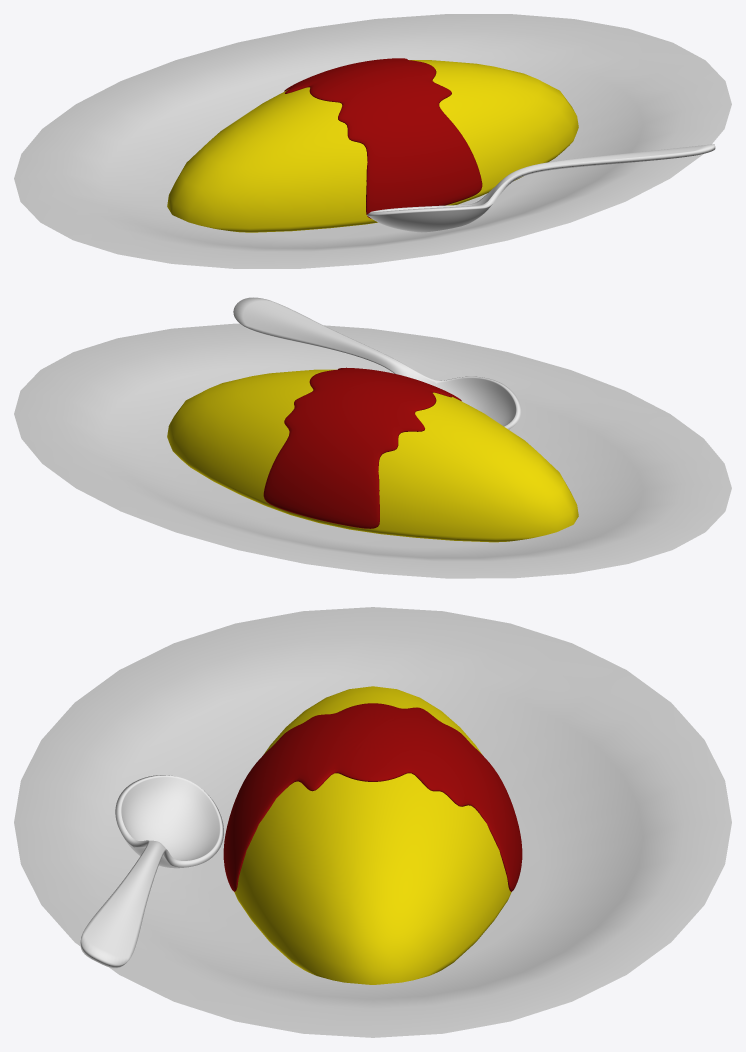
The model's file is omuraisu.glb.
The picture shows the model from 3 angles, top to bottom: view 1: azimuth 30°, elevation 25°; view 2: azimuth 150°, elevation 25°; view 3: azimuth 270°, elevation 25°; orthographic projection. The views are drawn at different scales.
Parts seen in each view (by area): view 1: 円柱, 球, 球.001, 球.002; view 2: 円柱, 球, 球.001, 球.002; view 3: 円柱, 球, 球.001, 球.002.
Part boxes in pixels (box(x1,y1,x2,y2)): 円柱: box(14, 14, 731, 268); 球: box(167, 60, 578, 232); 球.001: box(284, 58, 482, 218); 球.002: box(367, 144, 715, 232); 円柱: box(14, 323, 731, 578); 球: box(167, 369, 578, 542); 球.001: box(263, 367, 461, 528); 球.002: box(233, 297, 521, 429); 円柱: box(14, 607, 731, 1037); 球: box(234, 686, 511, 984); 球.001: box(223, 703, 522, 891); 球.002: box(80, 775, 223, 968).
Size of the model in its own units: 5.09 by 0.9085 by 3.58.
